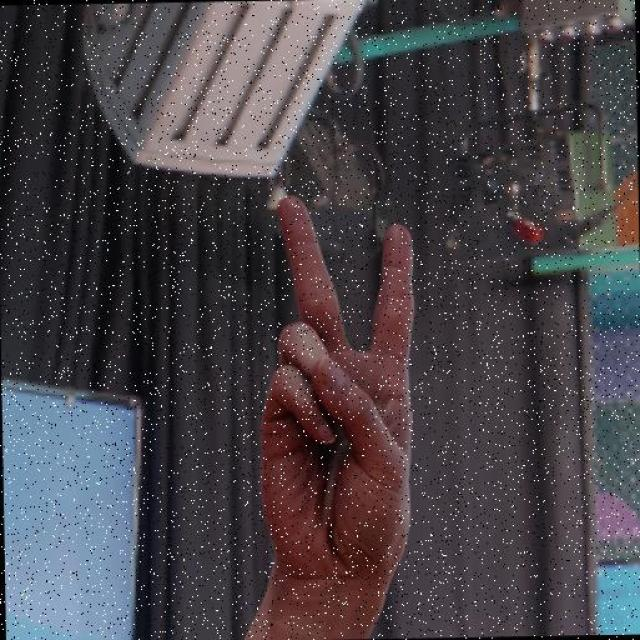V: (182, 180, 478, 620)
